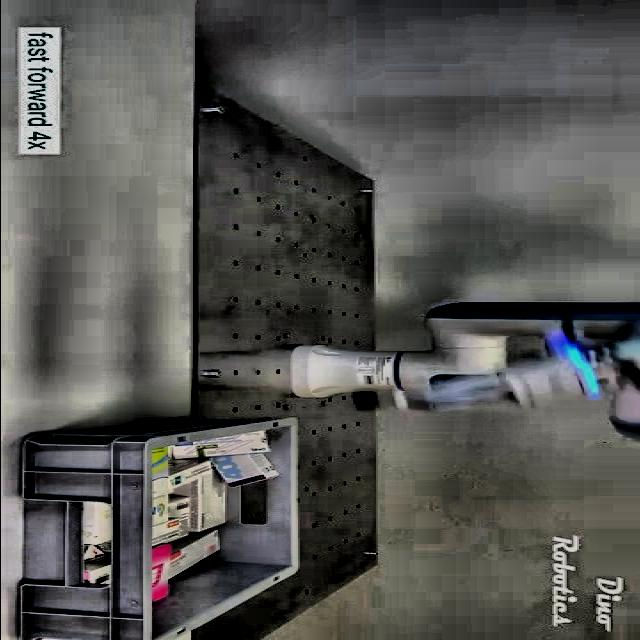robot: (290, 300, 640, 438)
